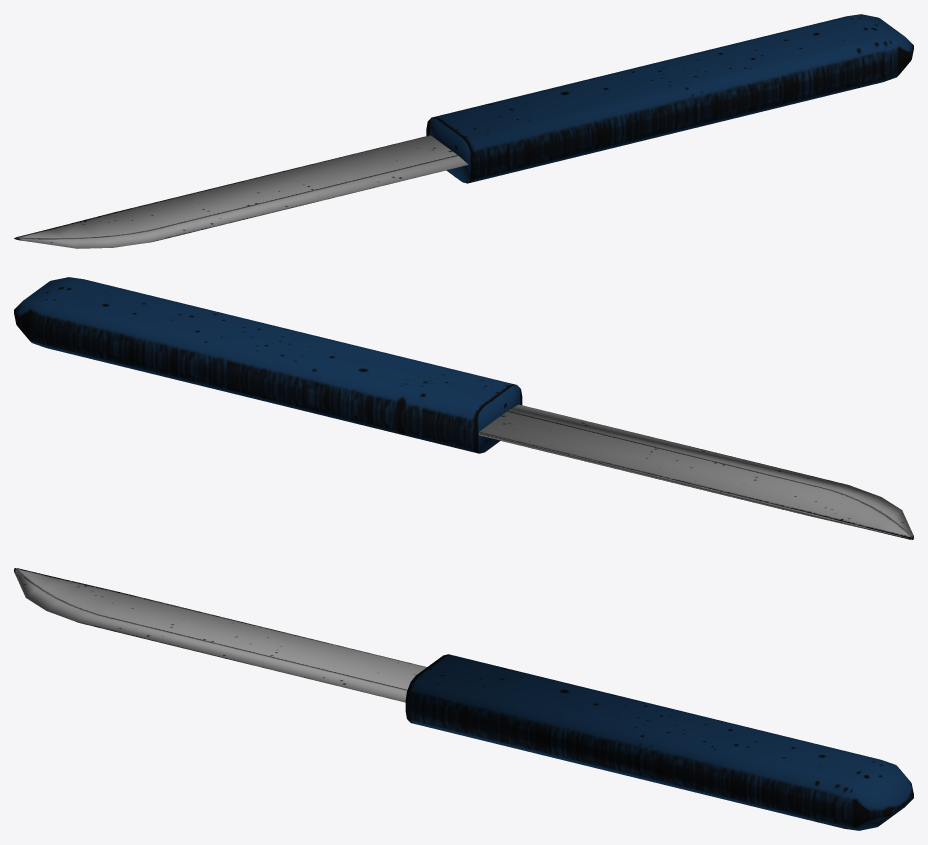
Rendered from Kitchen_Knife.obj.
3 views of the same model, one above another, from view 1: azimuth 30°, elevation 25°; view 2: azimuth 150°, elevation 25°; view 3: azimuth 330°, elevation 25° (orthographic). The views are drawn at different scales.
Parts seen in each view (by area): view 1: KitchenKnife; view 2: KitchenKnife; view 3: KitchenKnife.
Boxes of the visible parts, bbox=[...] form: KitchenKnife: bbox=[14, 14, 913, 248]; KitchenKnife: bbox=[14, 277, 913, 539]; KitchenKnife: bbox=[14, 568, 913, 830].
Size of the model in its own units: 8.32 by 0.4054 by 0.7649.
